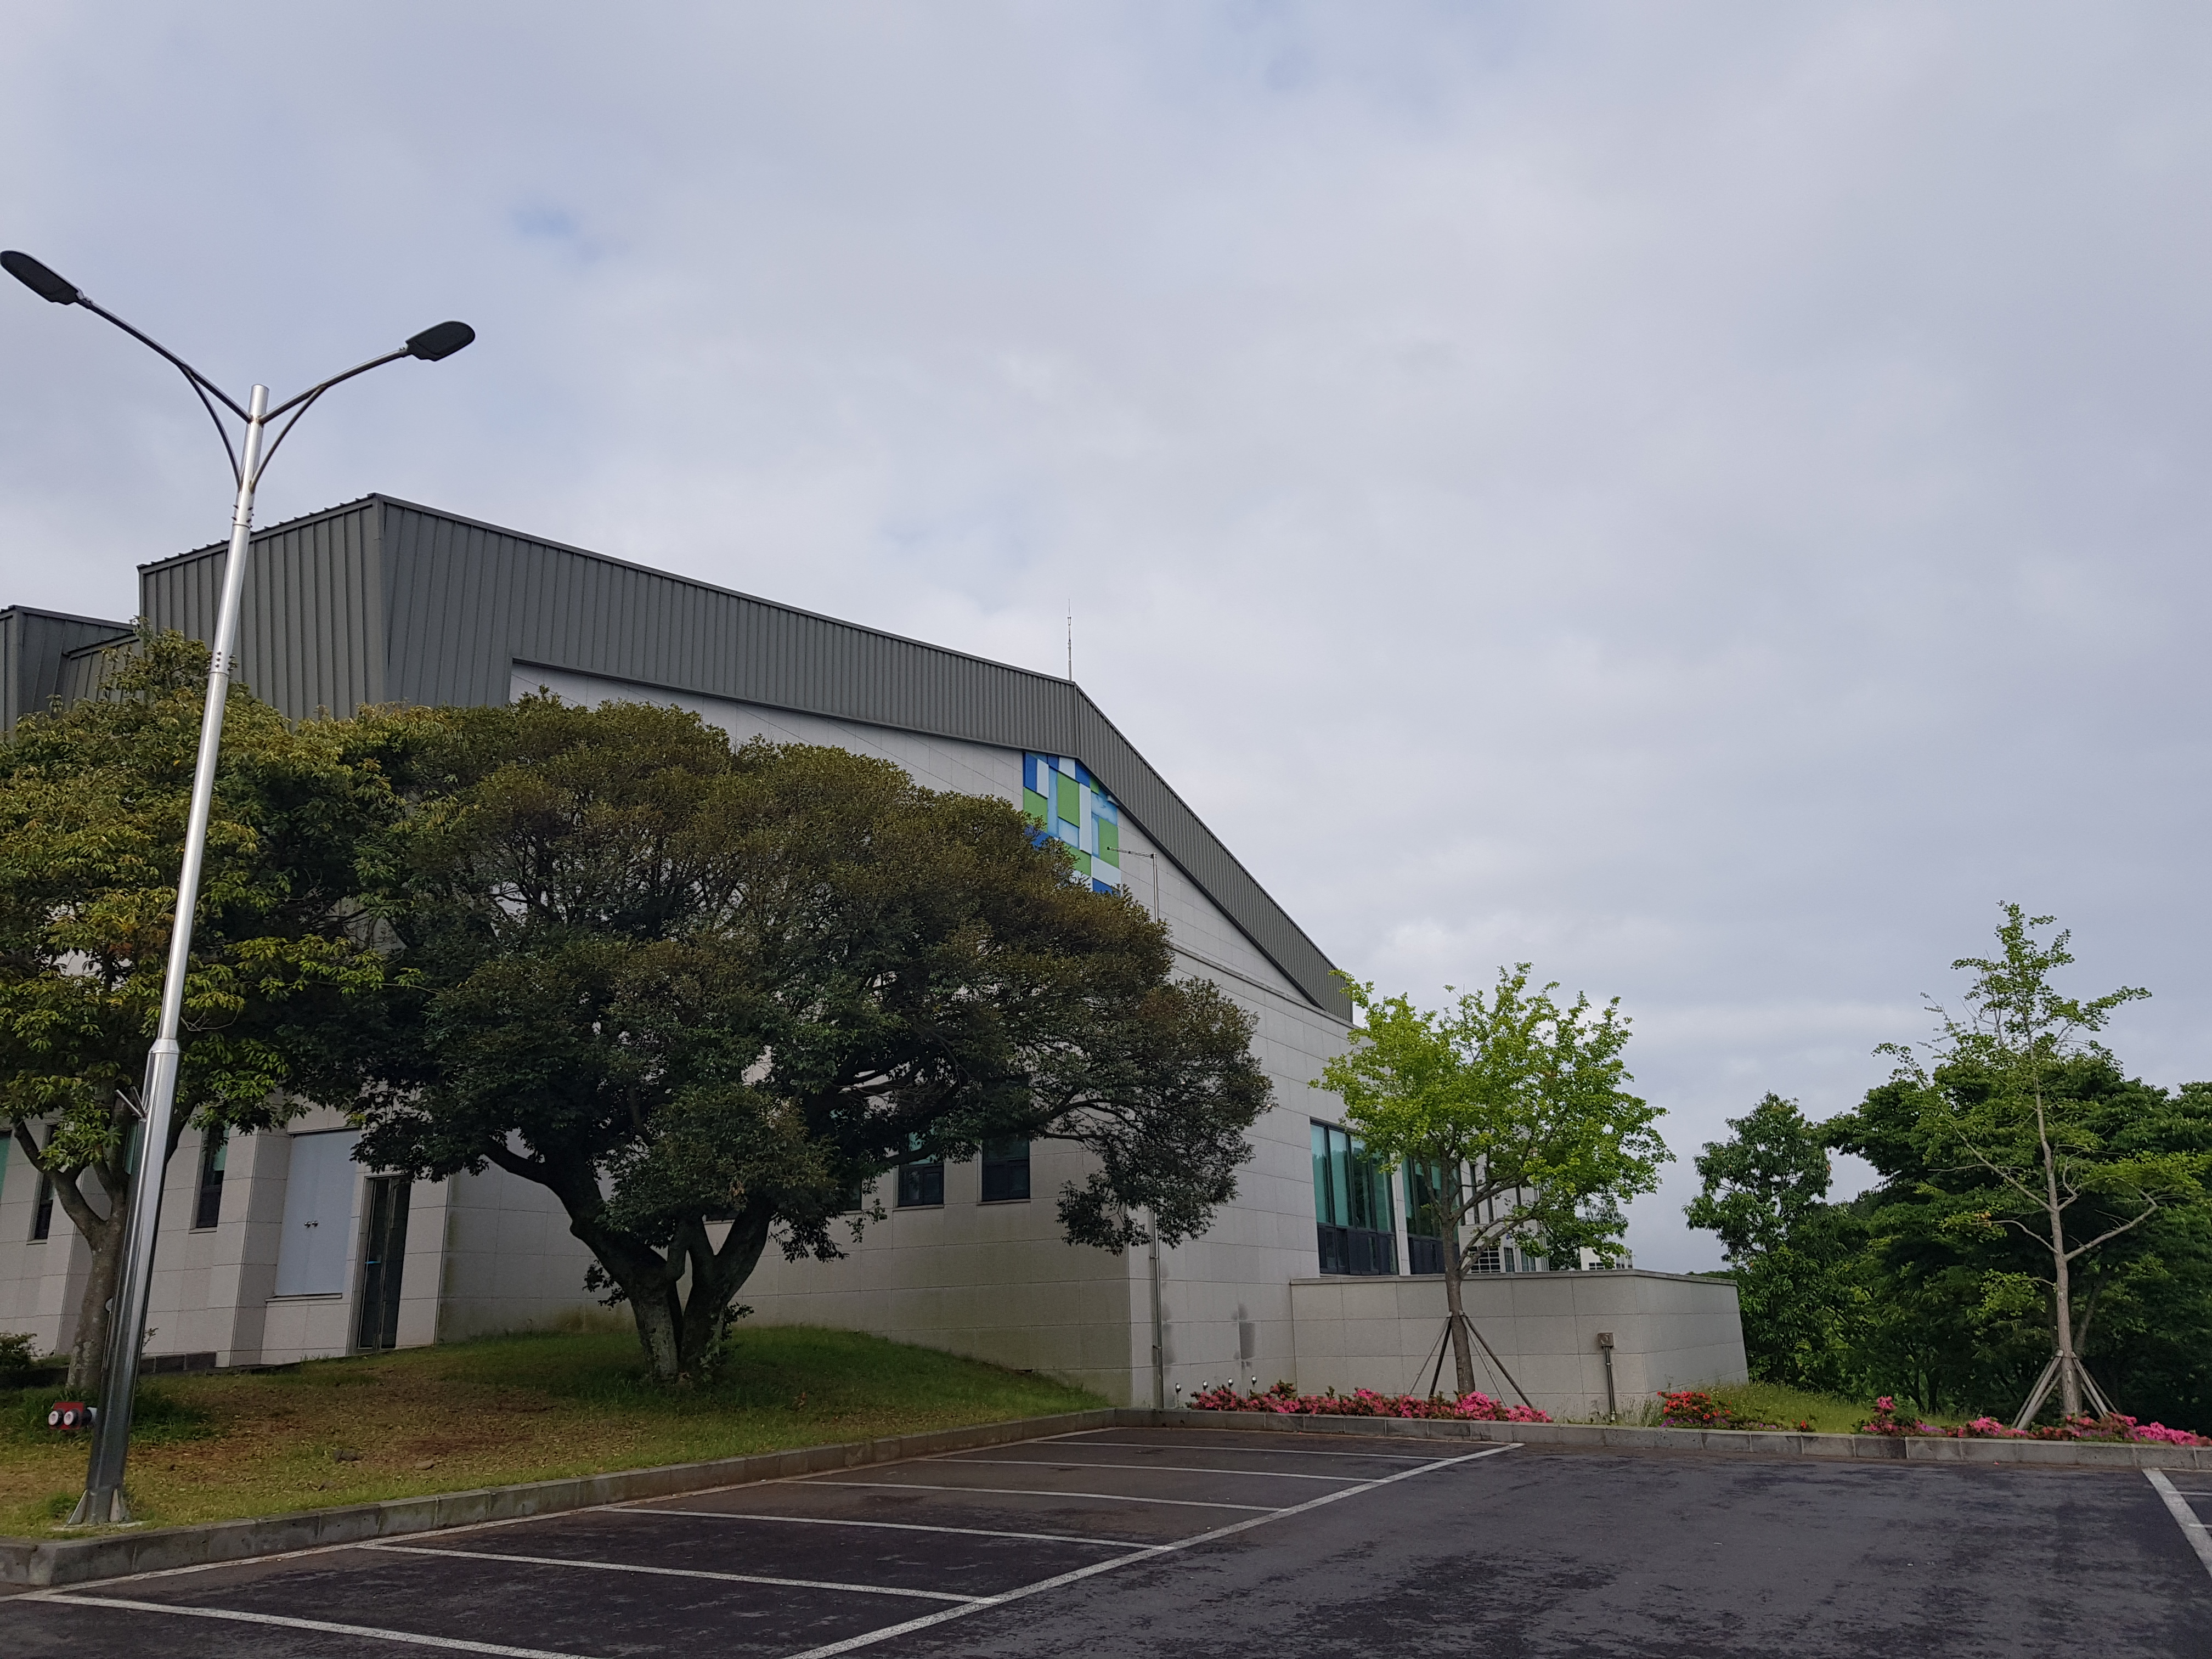Gym: (115, 437, 1801, 1446), (1010, 739, 1141, 917)
